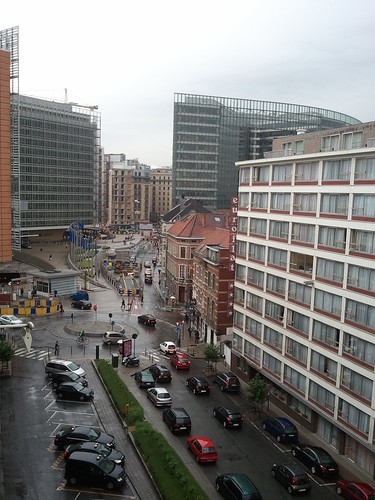building: (238, 135, 374, 479), (171, 103, 372, 202), (1, 93, 112, 253), (165, 202, 242, 335), (90, 163, 139, 227), (141, 168, 171, 217)
car: (61, 451, 124, 482), (38, 356, 89, 378), (39, 370, 90, 392), (45, 382, 96, 404), (68, 440, 119, 462), (57, 421, 108, 443), (194, 428, 221, 465), (167, 403, 199, 434), (133, 365, 156, 394), (151, 378, 174, 407)
sky: (50, 1, 375, 118)
street: (1, 265, 316, 499)
